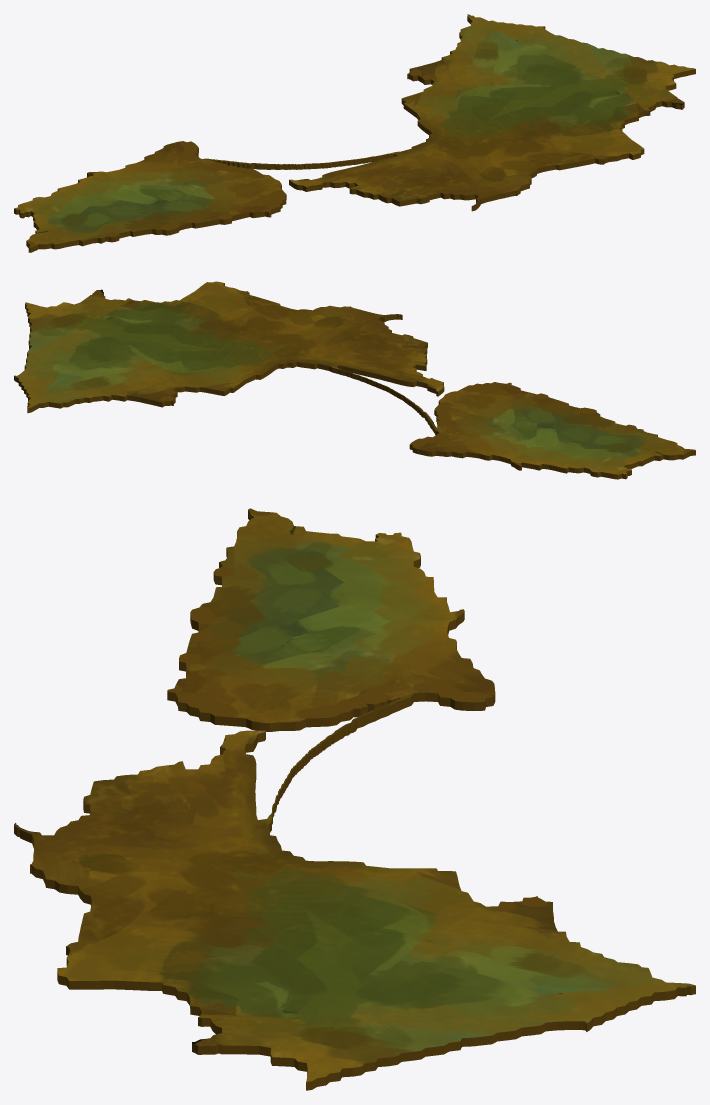
The model's file is island.glb.
The picture shows the model from 3 angles, top to bottom: view 1: azimuth 30°, elevation 25°; view 2: azimuth 150°, elevation 25°; view 3: azimuth 270°, elevation 25°; orthographic projection. The views are drawn at different scales.
Parts seen in each view (by area): view 1: Plane; view 2: Plane; view 3: Plane.
Part boxes in pixels (x1=…): Plane: x1=14, y1=14, x2=695, y2=252; Plane: x1=14, y1=281, x2=695, y2=479; Plane: x1=14, y1=508, x2=695, y2=1090.
Size of the model in its own units: 66.12 by 0.4987 by 33.22.
1 material, 1 textured.
